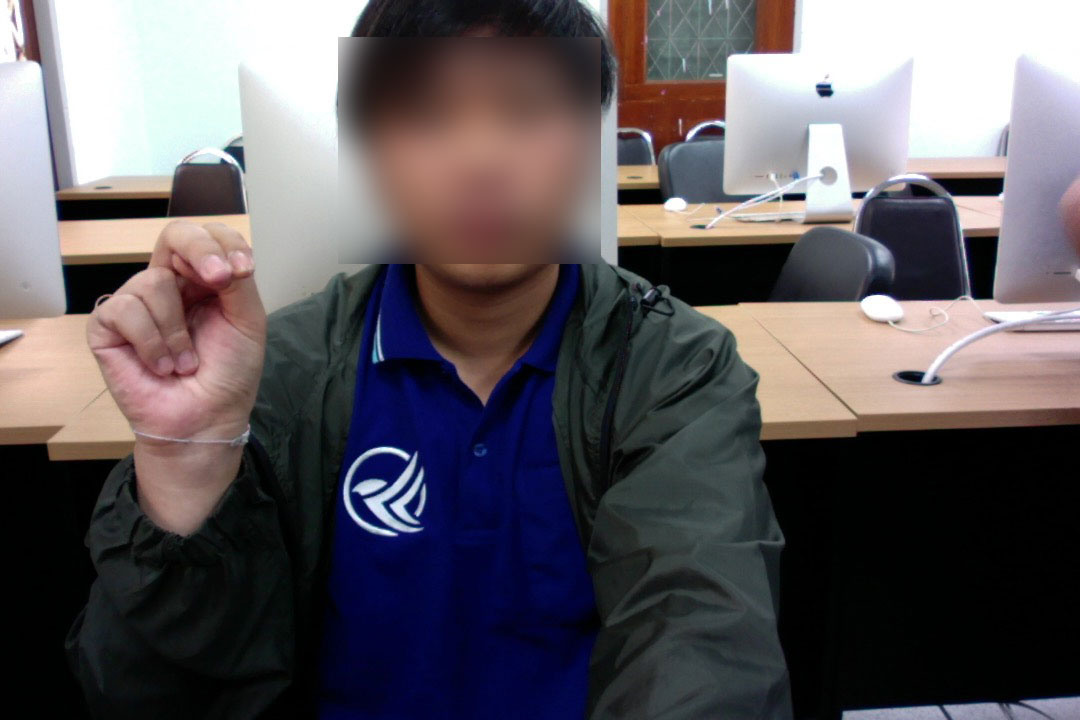nor: (73, 204, 274, 489)
